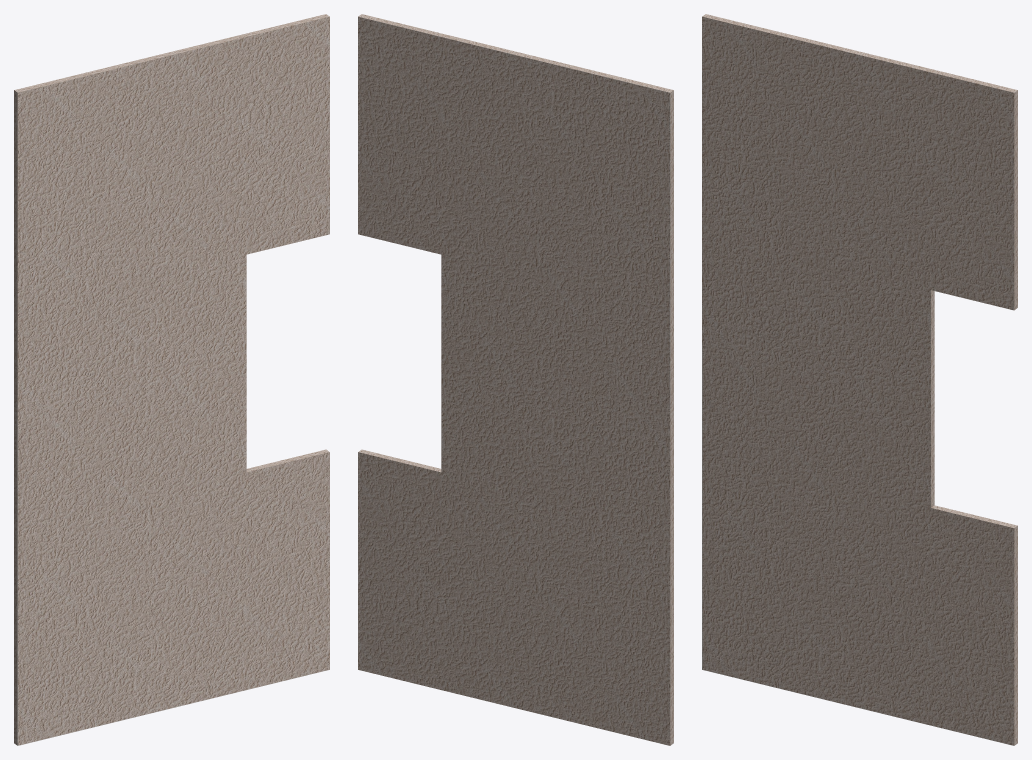
The model's file is subwall pair w.FBX.
3 views of the same model, side by side, from view 1: azimuth 30°, elevation 25°; view 2: azimuth 150°, elevation 25°; view 3: azimuth 330°, elevation 25° (orthographic).
Parts seen in each view (by area): view 1: subwall pair001; view 2: subwall pair001; view 3: subwall pair001.
Boxes of the visible parts, x1=… form: subwall pair001: x1=14, y1=14, x2=329, y2=745; subwall pair001: x1=358, y1=14, x2=673, y2=745; subwall pair001: x1=702, y1=14, x2=1017, y2=745.
Size of the model in its own units: 59.06 by 118 by 1.18.
Materials: 1 (1 with a texture image).
